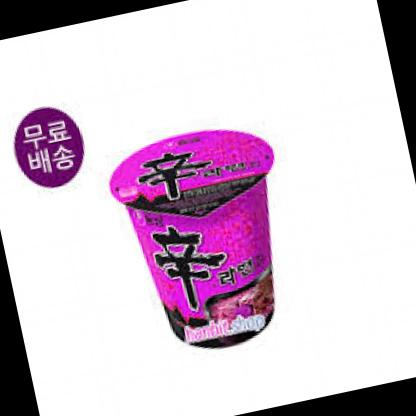Ramen: (102, 112, 309, 364)
